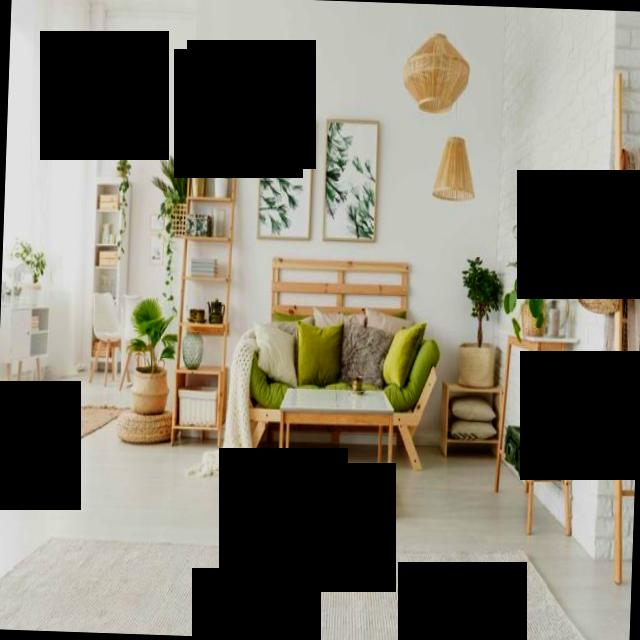modern chair: (88, 292, 128, 378)
modern desk: (272, 380, 398, 529)
modern shelf: (159, 120, 245, 463), (0, 273, 58, 408)
modern sofa: (235, 290, 442, 436)
